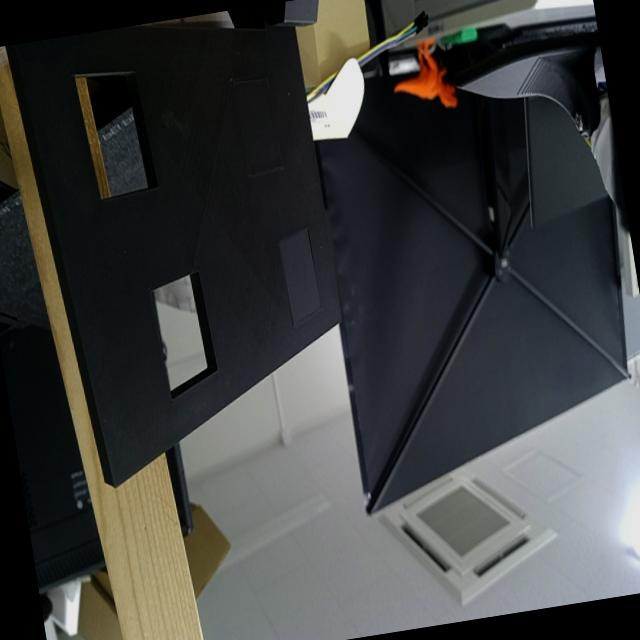Obstacle: (75, 71, 157, 200), (152, 270, 218, 397)
Wall: (14, 25, 342, 487)
